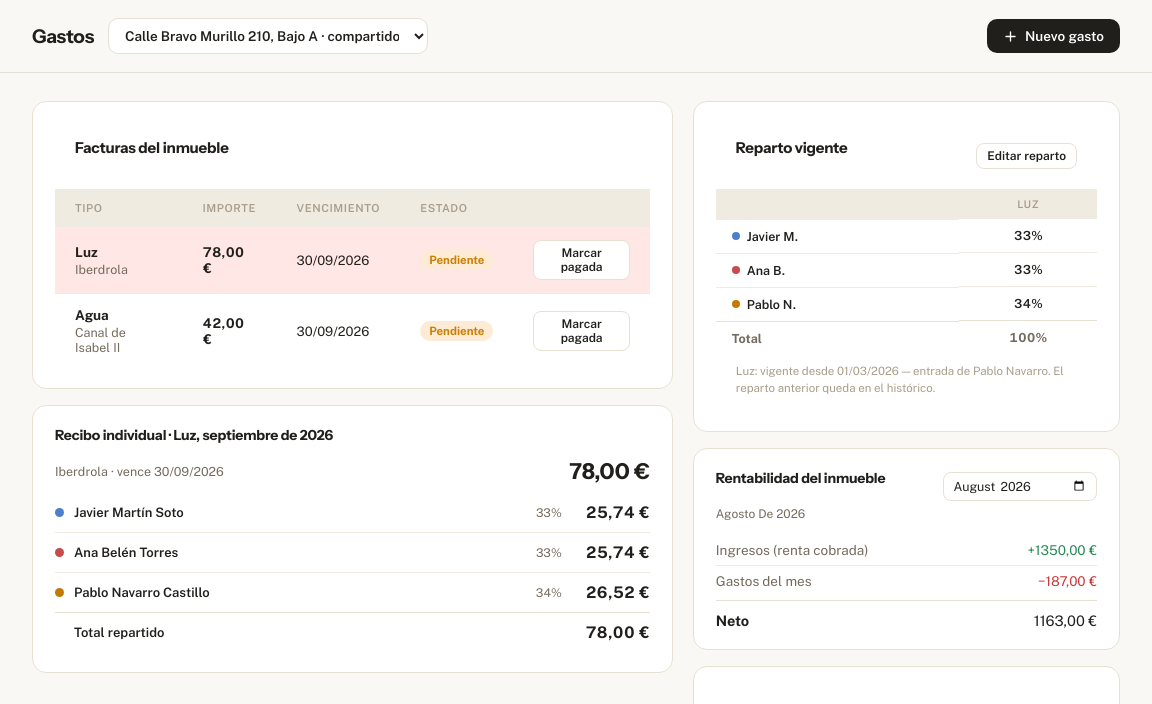
Test: Gastos › recalcula el recibo individual al cambiar de factura seleccionada
Expected: the heading "Recibo individual · Luz, septiembre de 2026" is shown, [55,426,333,444]
Expected: the text "25,74 €" is shown 2 times, [585,503,650,522]; [585,543,650,562]
Click the text "Canal de Isabel II".
click(100, 340)  # box [75,325,126,355]
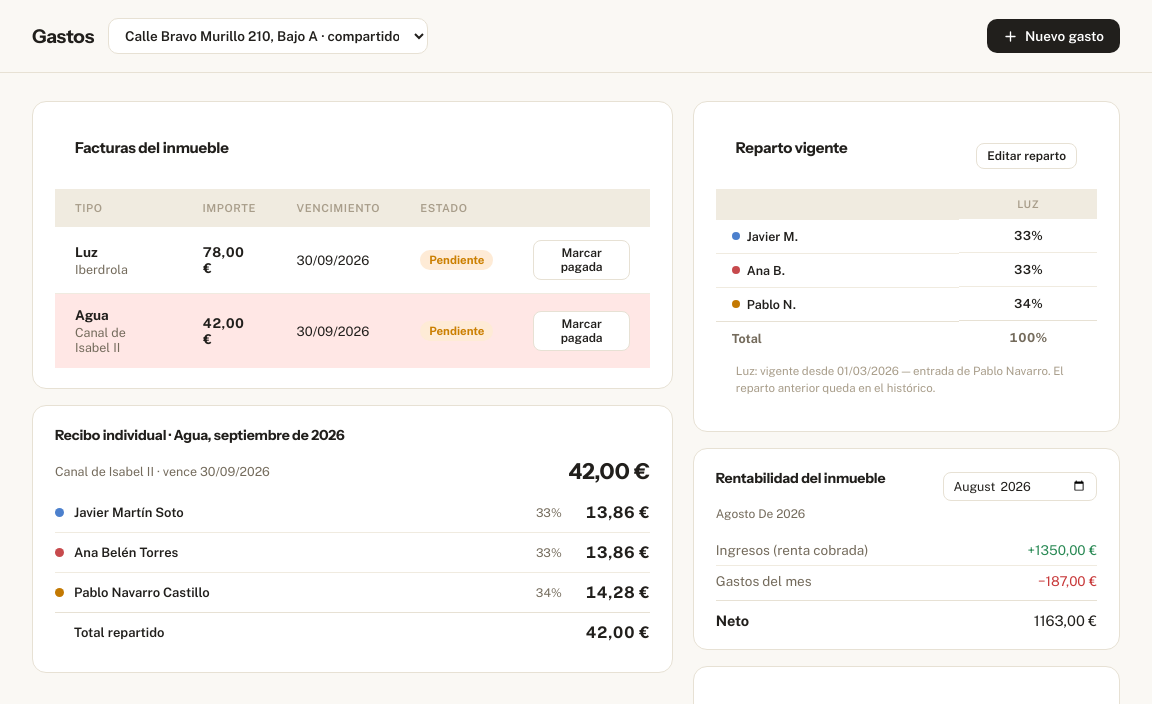
Expected: the text "13,86 €" is shown 2 times, [585,503,650,522]; [585,543,650,562]
Result: the heading "Recibo individual · Agua, septiembre de 2026" is shown at [55,426,344,444]
Result: the text "14,28 €" is shown at [585,583,650,602]
